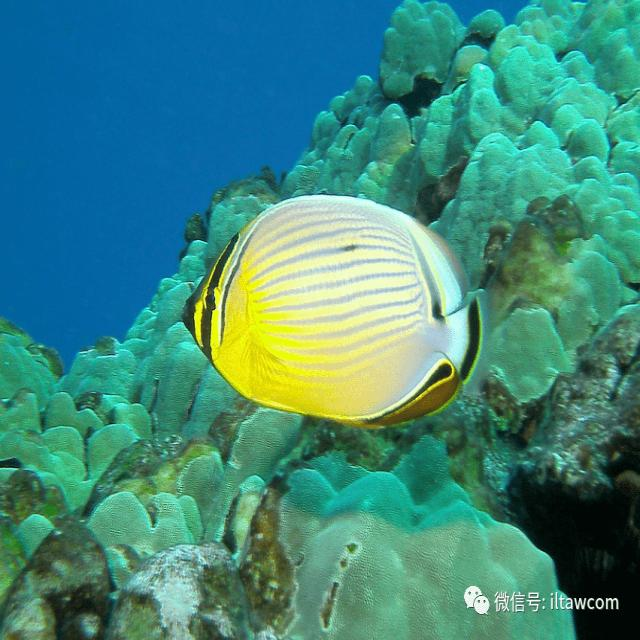ButterflyFish: (182, 197, 483, 423)
